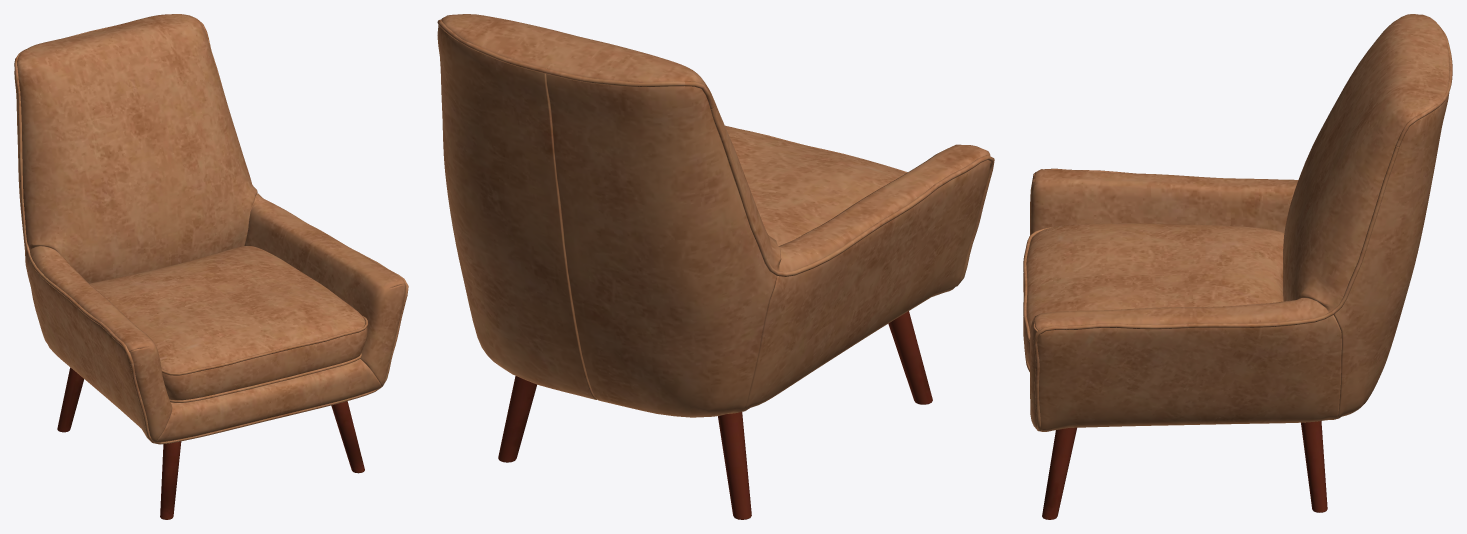
The picture shows the model from 3 angles, left to right: view 1: azimuth 30°, elevation 25°; view 2: azimuth 150°, elevation 25°; view 3: azimuth 270°, elevation 25°; orthographic projection. The views are drawn at different scales.
Parts seen in each view (by area): view 1: RootNode; view 2: RootNode; view 3: RootNode.
Part boxes in pixels (box(x1,y1,x2,y2)): RootNode: box(14, 14, 408, 519); RootNode: box(437, 14, 994, 519); RootNode: box(1023, 14, 1452, 519).
Size of the model in its own units: 0.7529 by 0.8829 by 0.8514.
1 material, 1 textured.
